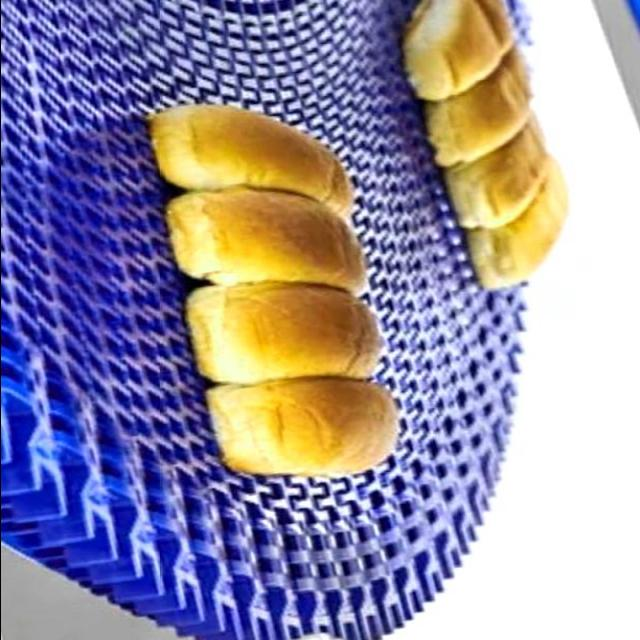food: (146, 102, 402, 480), (399, 0, 572, 290)
